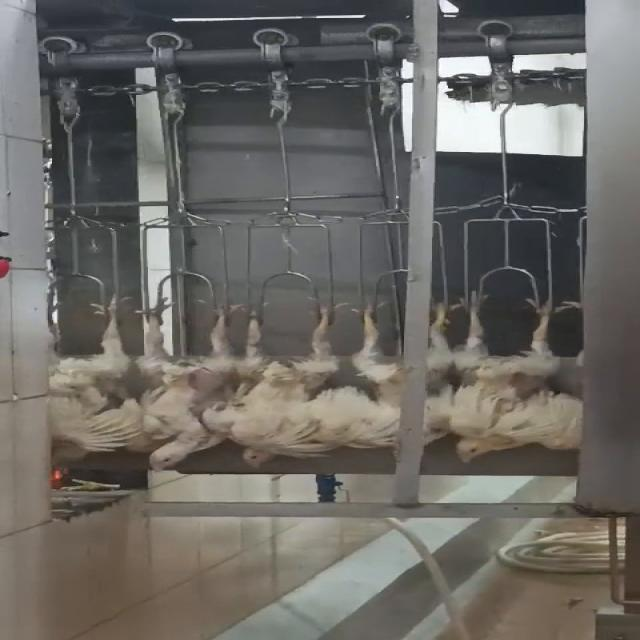chicken: (452, 289, 578, 466), (224, 298, 344, 472), (347, 295, 477, 447), (137, 296, 240, 474), (32, 289, 128, 466)
